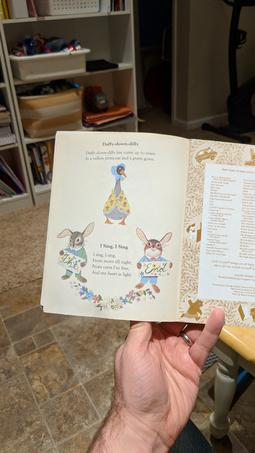text block: (80, 137, 161, 166), (87, 237, 133, 281)
